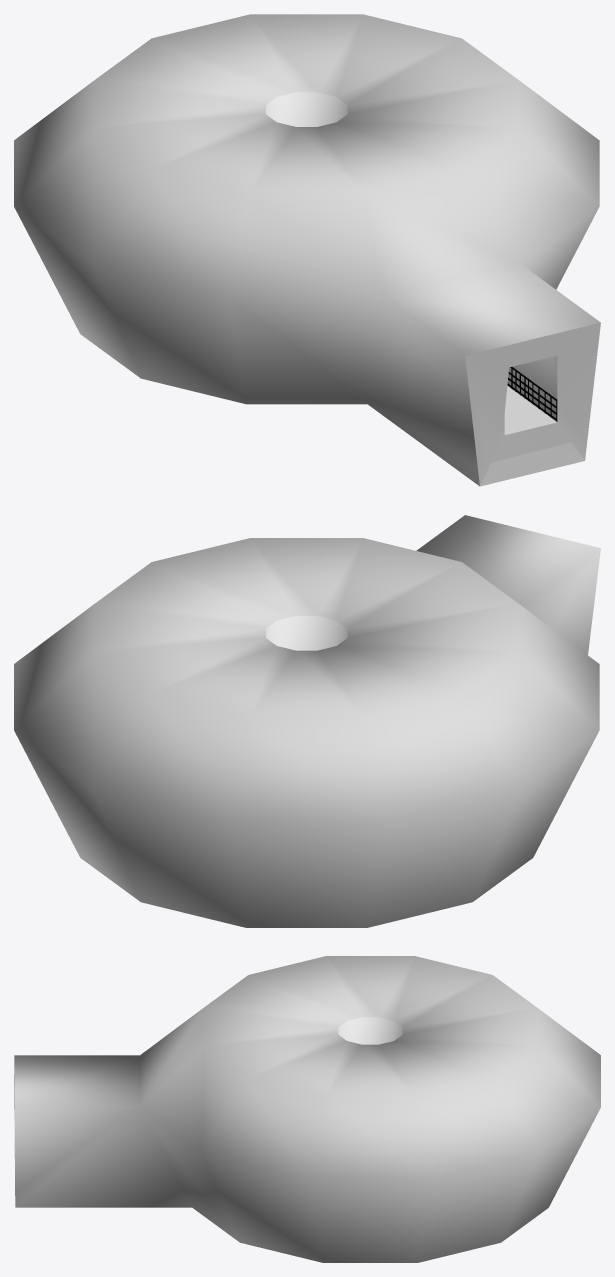
The model's file is map_starlightbalcony.fbx.
3 views of the same model, one above another, from view 1: azimuth 30°, elevation 25°; view 2: azimuth 150°, elevation 25°; view 3: azimuth 270°, elevation 25° (orthographic). The views are drawn at different scales.
Visible parts, largest first — view 1: starlight balcony; view 2: starlight balcony; view 3: starlight balcony.
Boxes of the visible parts, left/top/right/bottom form: starlight balcony: left=14, top=14, right=600, bottom=486; starlight balcony: left=14, top=515, right=600, bottom=927; starlight balcony: left=14, top=956, right=600, bottom=1262.
Bounding box in the file's own units: 498 × 216 × 634.
